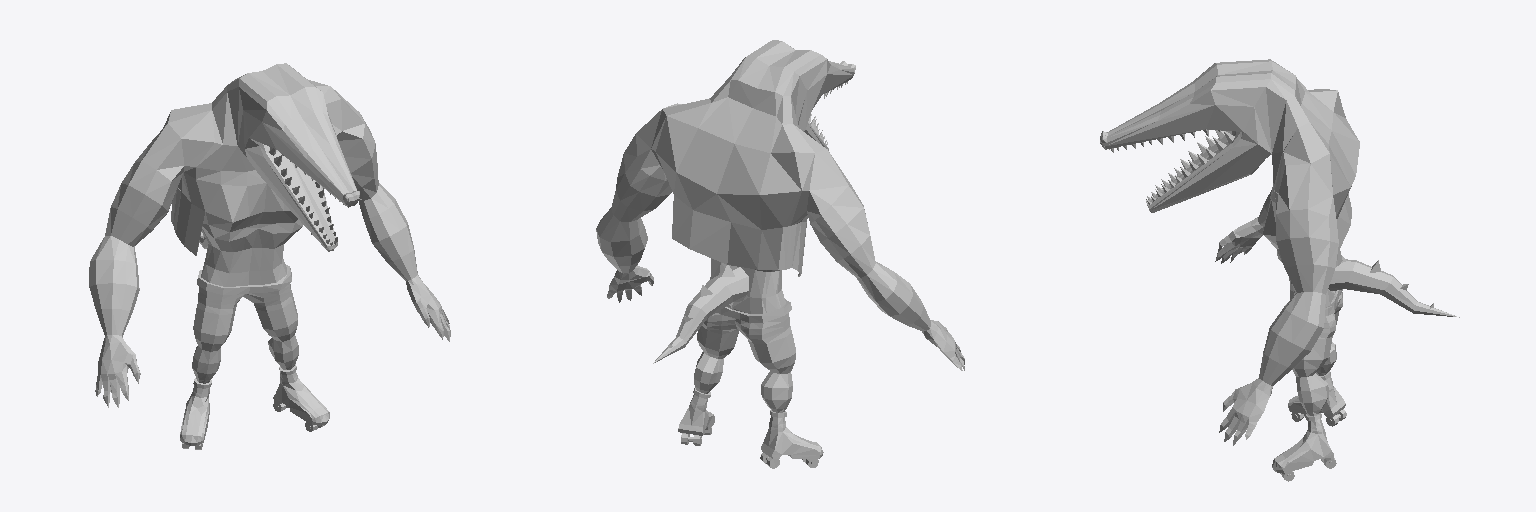
Rendered from cocodrilaBonesSelect_000082.obj.
The picture shows the model from 3 angles: view 1: azimuth 30°, elevation 25°; view 2: azimuth 150°, elevation 25°; view 3: azimuth 270°, elevation 25°; orthographic projection.
Visible parts, largest first — view 1: Crocodile.002_Cylinder.002; view 2: Crocodile.002_Cylinder.002; view 3: Crocodile.002_Cylinder.002.
Boxes of the visible parts, <box> form: Crocodile.002_Cylinder.002: <box>89,63,450,449</box>; Crocodile.002_Cylinder.002: <box>596,40,964,468</box>; Crocodile.002_Cylinder.002: <box>1100,59,1459,481</box>.
Bounding box in the file's own units: 6.44 × 6.63 × 5.68.